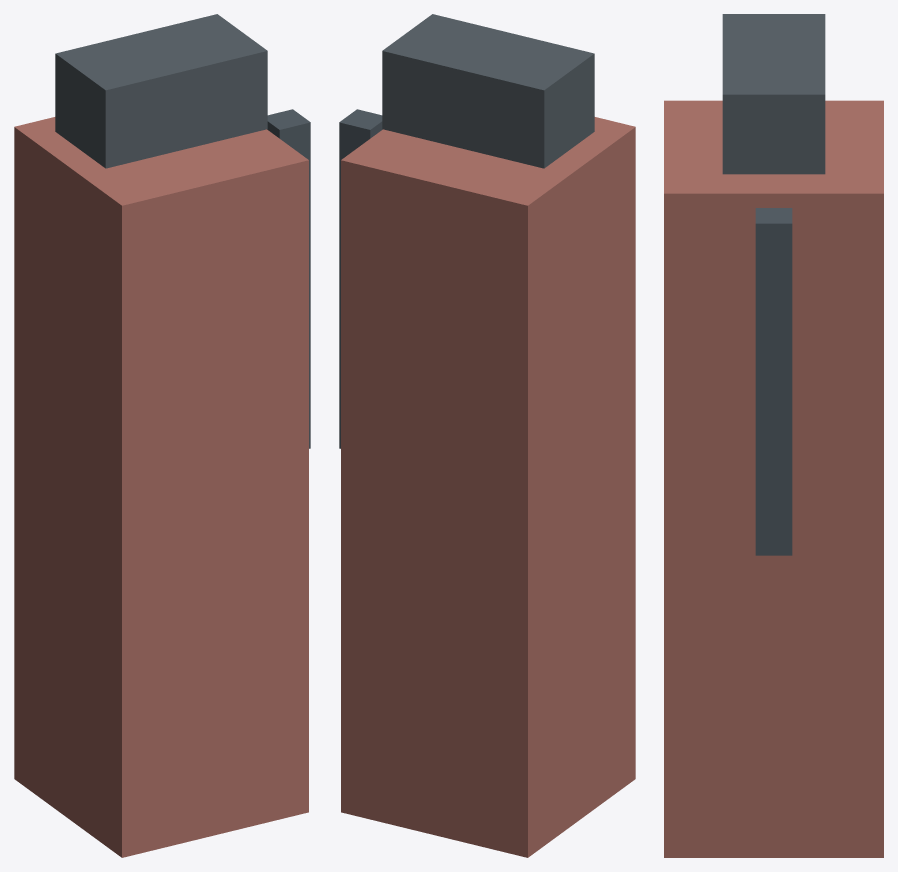
Rendered from fire_extinguisher.glb.
The picture shows the model from 3 angles, left to right: view 1: azimuth 30°, elevation 25°; view 2: azimuth 150°, elevation 25°; view 3: azimuth 270°, elevation 25°; orthographic projection.
Parts seen in each view (by area): view 1: body; view 2: body; view 3: body.
Boxes of the visible parts, left/top/right/bottom form: body: left=14, top=14, right=310, bottom=857; body: left=339, top=14, right=635, bottom=857; body: left=664, top=14, right=883, bottom=857.
Bounding box in the file's own units: 0.1875 × 0.57 × 0.15.
